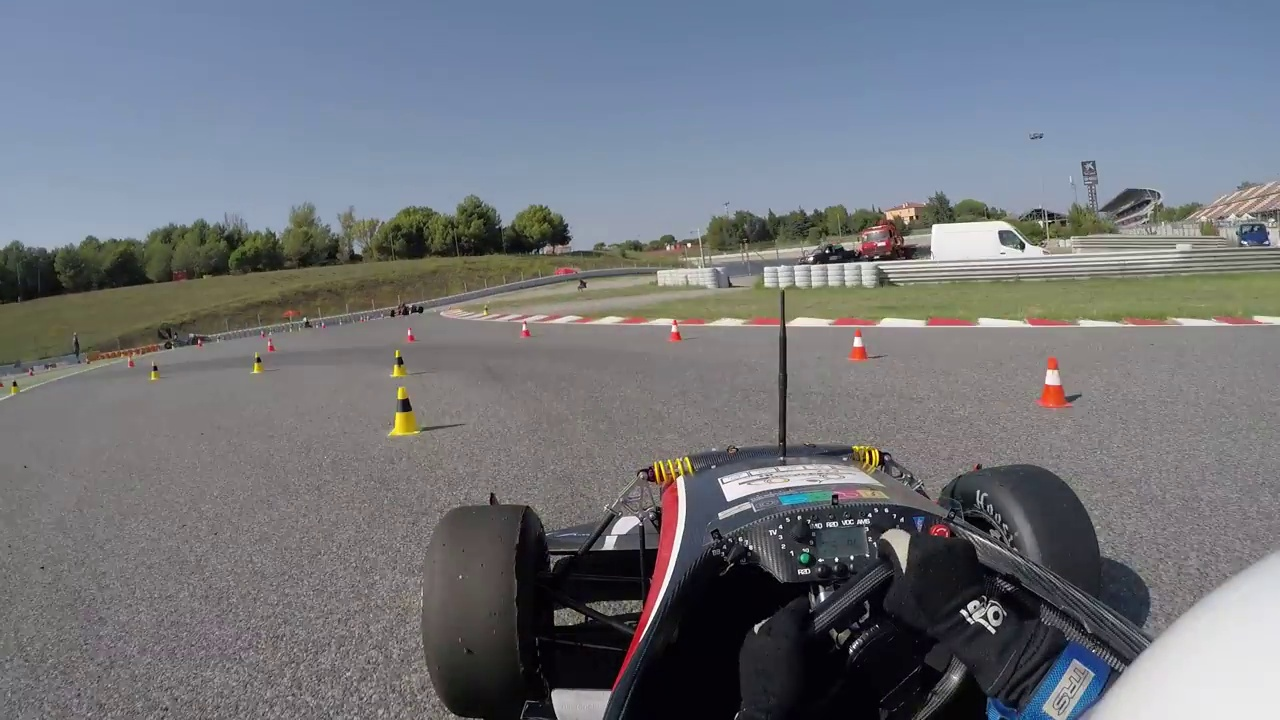Cone: (1036, 356, 1075, 409), (389, 384, 423, 439), (847, 327, 873, 364), (667, 318, 686, 345), (391, 347, 408, 375)
